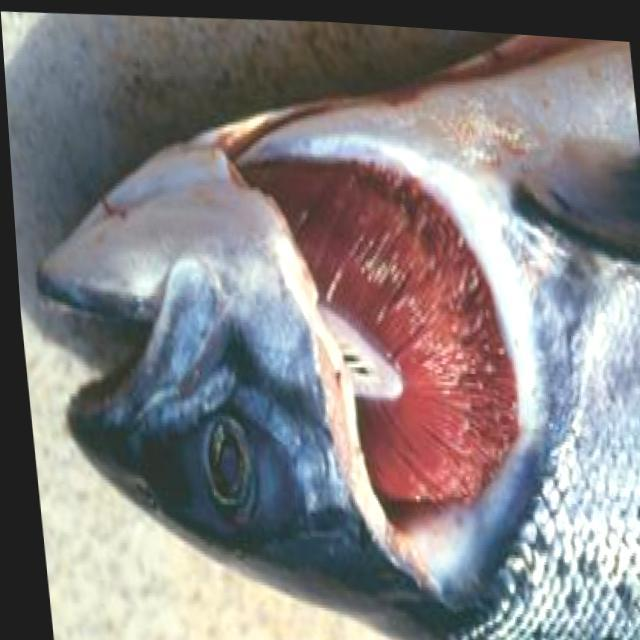Gill Disease: (48, 81, 596, 629)
